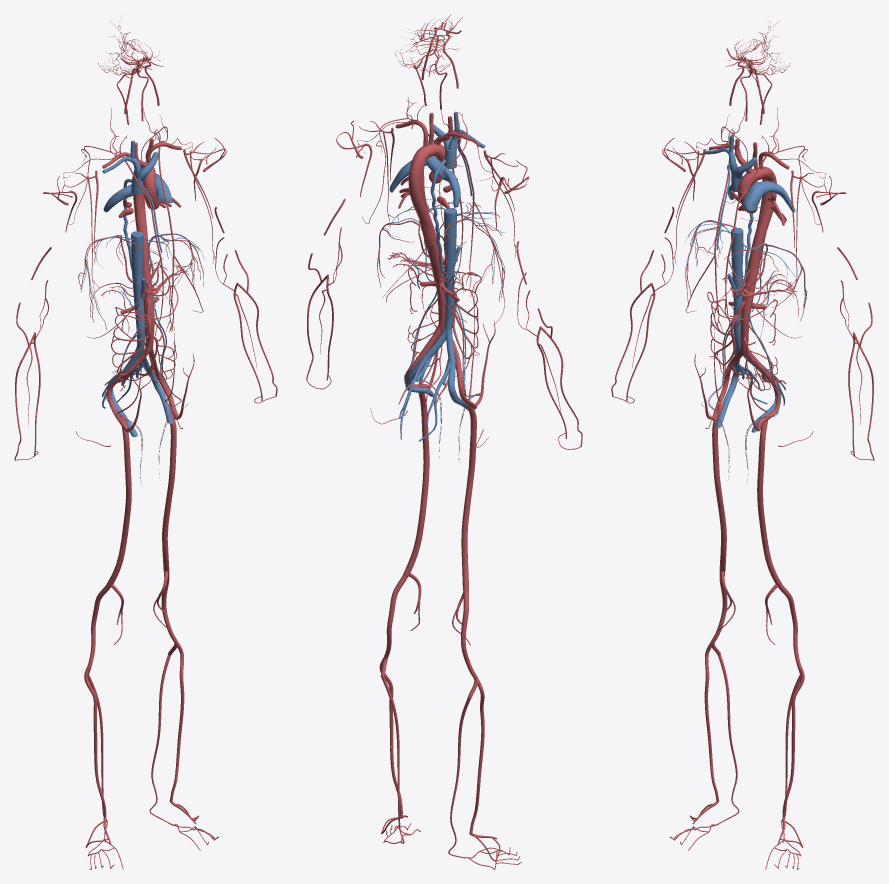
The model's file is vessels.glb.
The picture shows the model from 3 angles, left to right: view 1: azimuth 30°, elevation 25°; view 2: azimuth 150°, elevation 25°; view 3: azimuth 330°, elevation 25°; orthographic projection. The views are drawn at different scales.
Visible parts, largest first — view 1: vessels; view 2: vessels; view 3: vessels.
Boxes of the visible parts, x1,y1,x2,y2 form: vessels: (14,18,277,869); vessels: (306,14,582,869); vessels: (611,20,874,869).
Bounding box in the file's own units: 0.5588 × 1.65 × 0.2133.
